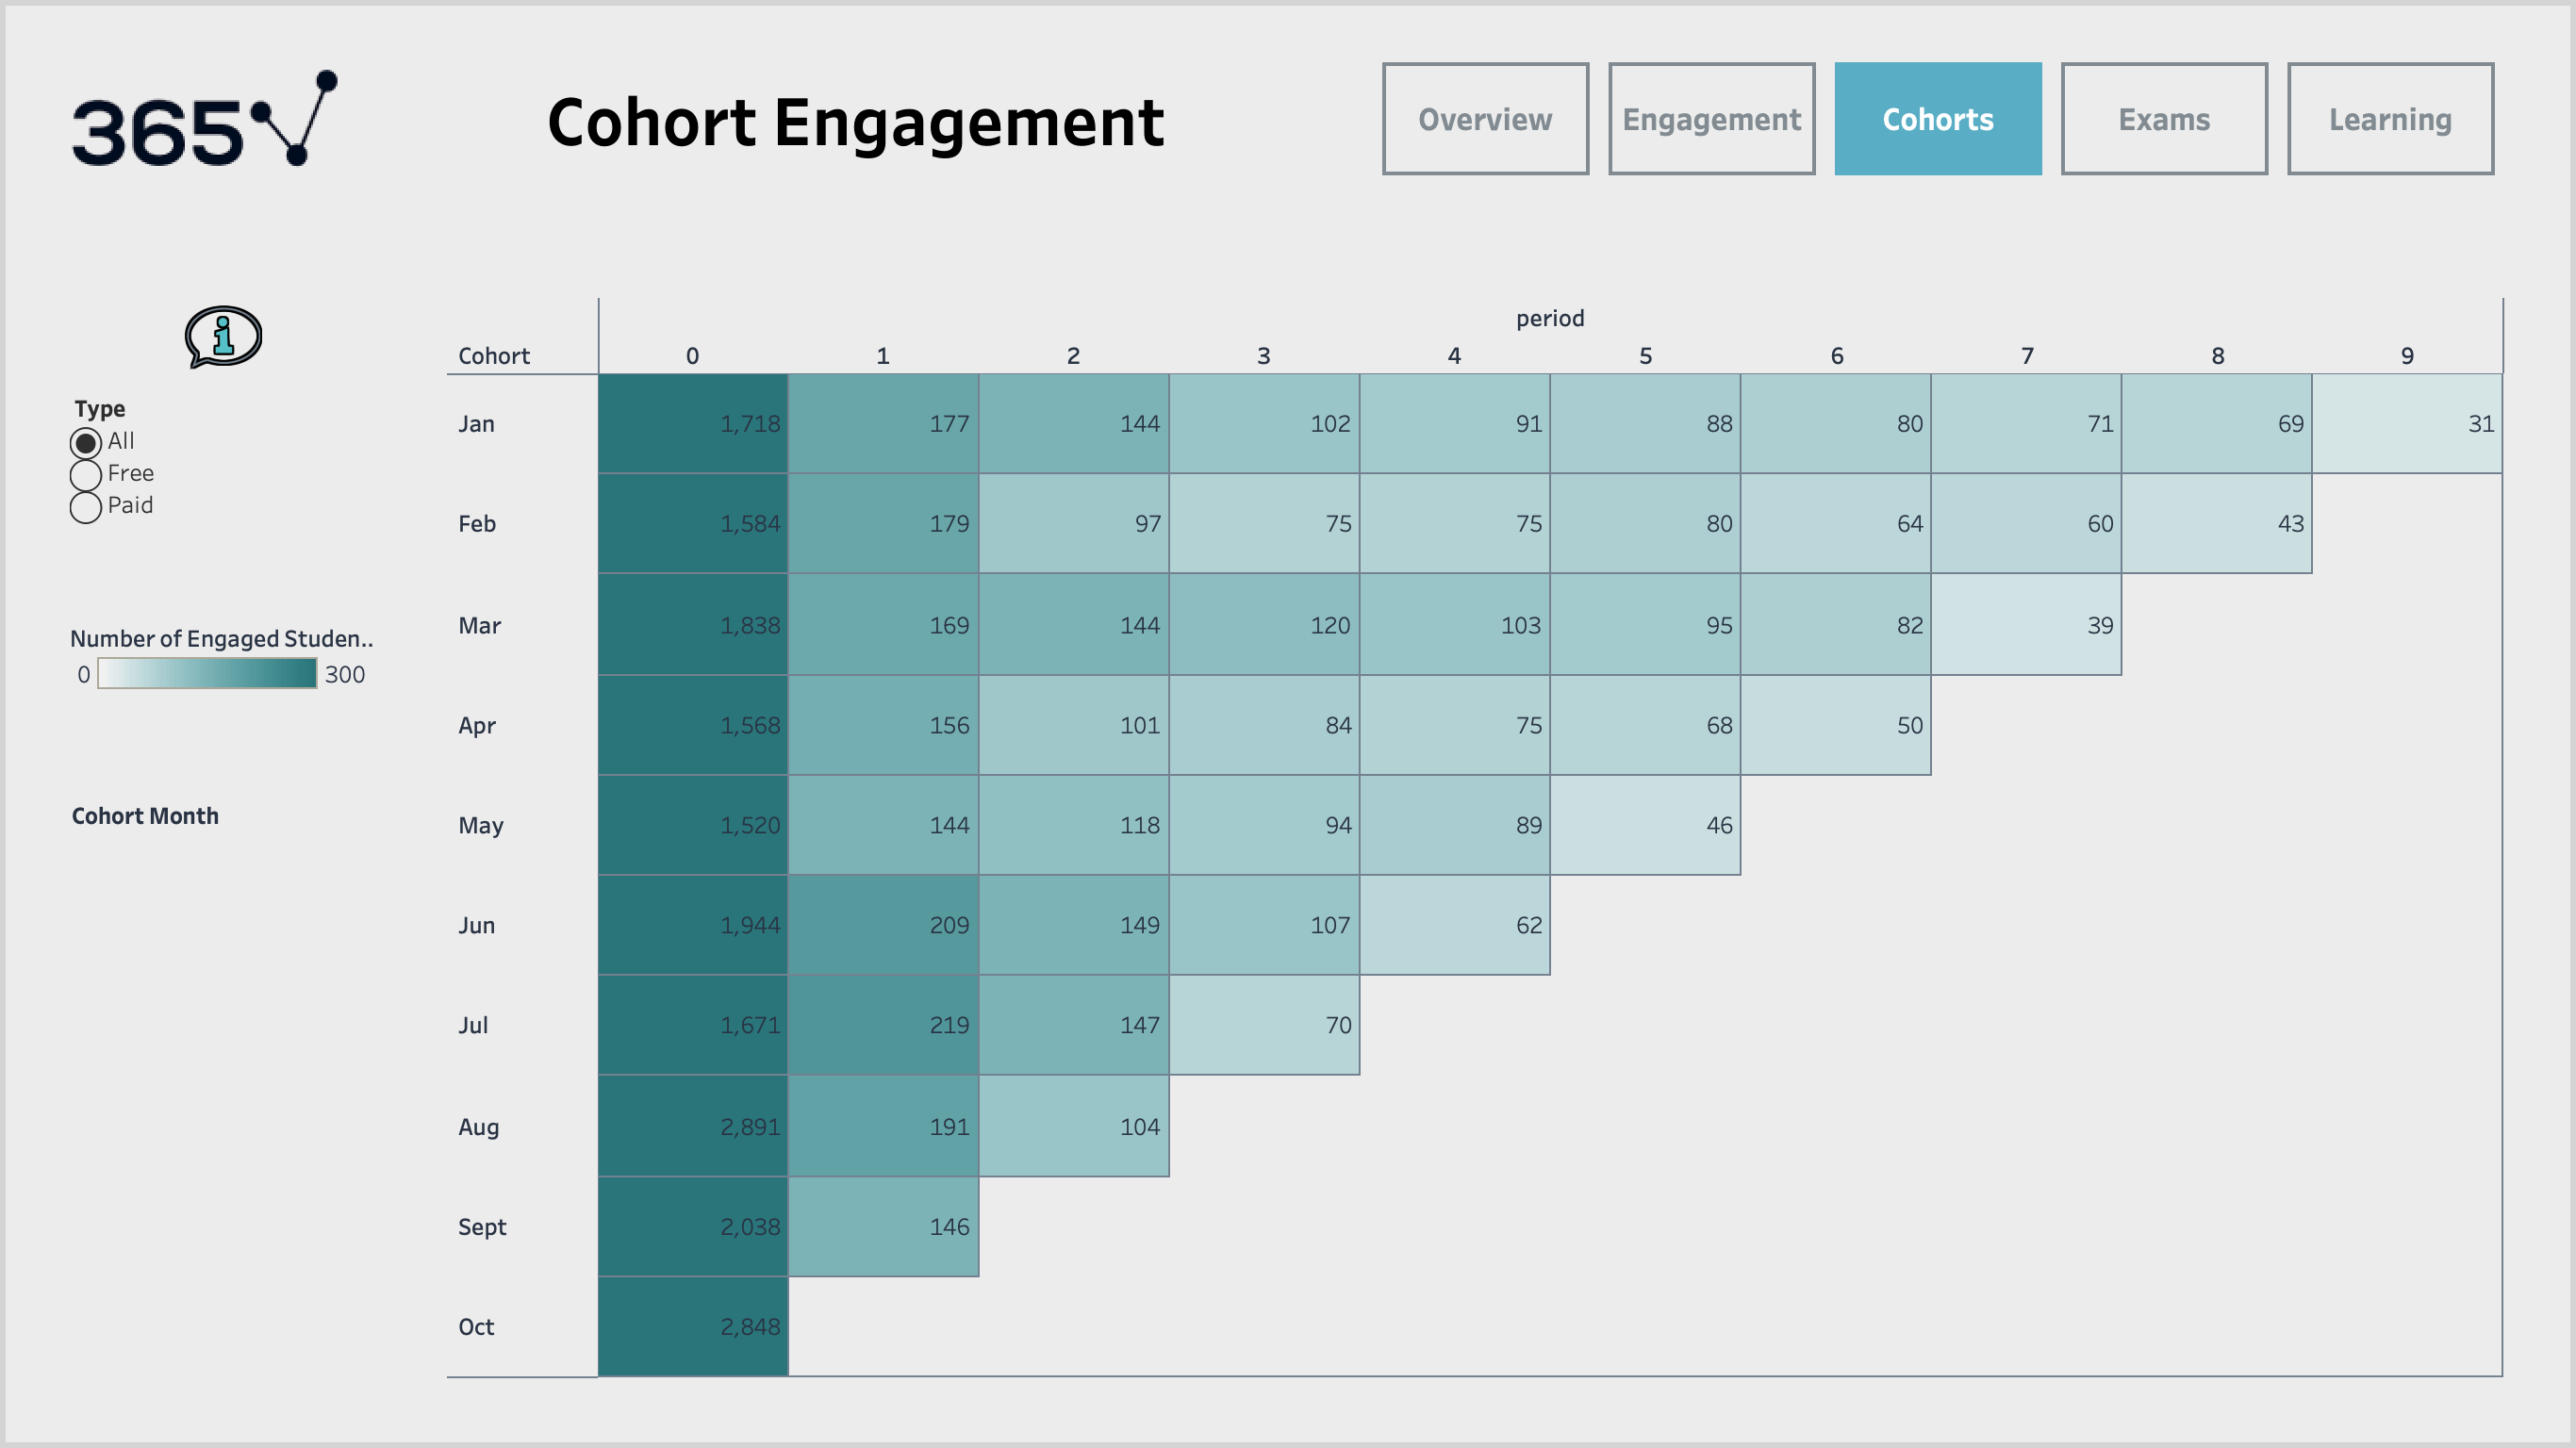

What the dashboard file says about the page in this screenshot:
{"tool":"tableau","page":{"name":"Cohort Engagement ","canvas":[1366,768],"ordinal":0},"visuals":[{"type":"image","param":"/Users/ayush/Downloads/images/logo.png","box":[38,28,142,70]},{"type":"text","box":[180,28,548,70]},{"type":"dashboard-object","box":[728,28,120,70]},{"type":"dashboard-object","box":[848,28,120,70]},{"type":"dashboard-object","box":[968,28,120,70]},{"type":"dashboard-object","box":[1088,28,120,70]},{"type":"dashboard-object","box":[1208,28,120,70]},{"type":"worksheet","title":"Retention curve","mark":"Line","cols":["period"],"box":[218,138,1129.9,1]},{"type":"worksheet","title":"cohort","mark":"Square","rows":["cohort "],"cols":["period"],"box":[218,139,1129.9,610.9]},{"type":"worksheet","title":"cohort tooltip ","mark":"Shape","rows":["Calculation_3486349068628307999"],"box":[33,153,170,50]},{"type":"parameter","param":"[Parameters].[Student Type  2 (copy)_3486349065815097366]","box":[33,203,170,89]},{"type":"blank","box":[33,292,170,30]},{"type":"legend","title":"cohort","param":"[federated.1l4u0gj0x5s3za142form1xcbgxe].[ctd:student_id:qk]","box":[33,322,170,65]},{"type":"blank","box":[33,387,170,30]},{"type":"legend","title":"Retention curve","param":"[federated.1l4u0gj0x5s3za142form1xcbgxe].[none:cohort :ok]","box":[33,417,170,27]}]}

Visuals, with their boxes in screenshot pixels (x1, y1, x2, y2), scaled from the page's 1366x768 canvas onto the 2576x1448 screenshot:
image: 72:53:339:185
text: 339:53:1373:185
dashboard-object: 1373:53:1599:185
dashboard-object: 1599:53:1825:185
dashboard-object: 1825:53:2052:185
dashboard-object: 2052:53:2278:185
dashboard-object: 2278:53:2504:185
"Retention curve" worksheet (Line marks): 411:260:2542:262
"cohort" worksheet (Square marks): 411:262:2542:1414
"cohort tooltip " worksheet (Shape marks): 62:288:383:383
parameter: 62:383:383:551
blank: 62:551:383:607
"cohort" legend: 62:607:383:730
blank: 62:730:383:786
"Retention curve" legend: 62:786:383:837
